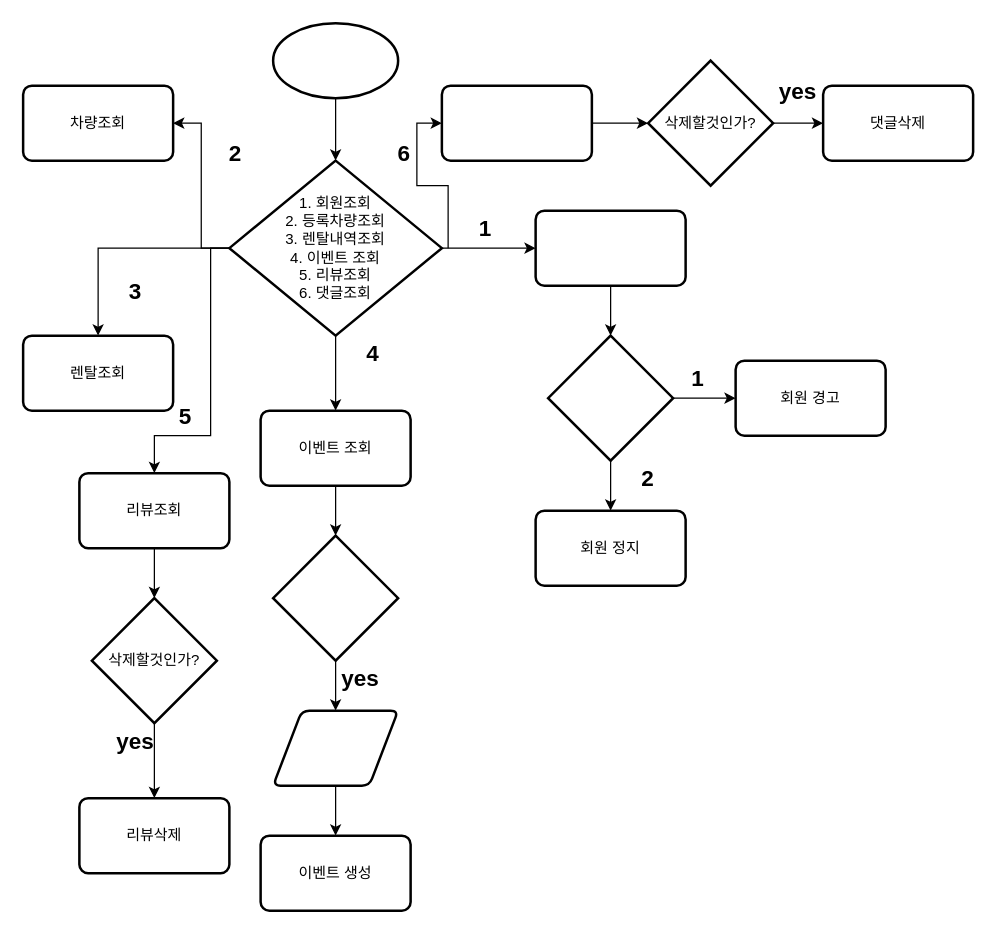
Image size: 995x933. Some labels were removed from this diagram. Each missing label, with the centre of its shape:
"1. 경고 2. 정지" belongs at pixel 610 397.
"관리자 모드 로그인" belongs at pixel 335 60.
"댓글조회" belongs at pixel 516 122.
"이벤트 이름 입력" belongs at pixel 335 747.
"이벤트를 생성할것인가?" belongs at pixel 335 597.
"회원조회" belongs at pixel 610 247.
